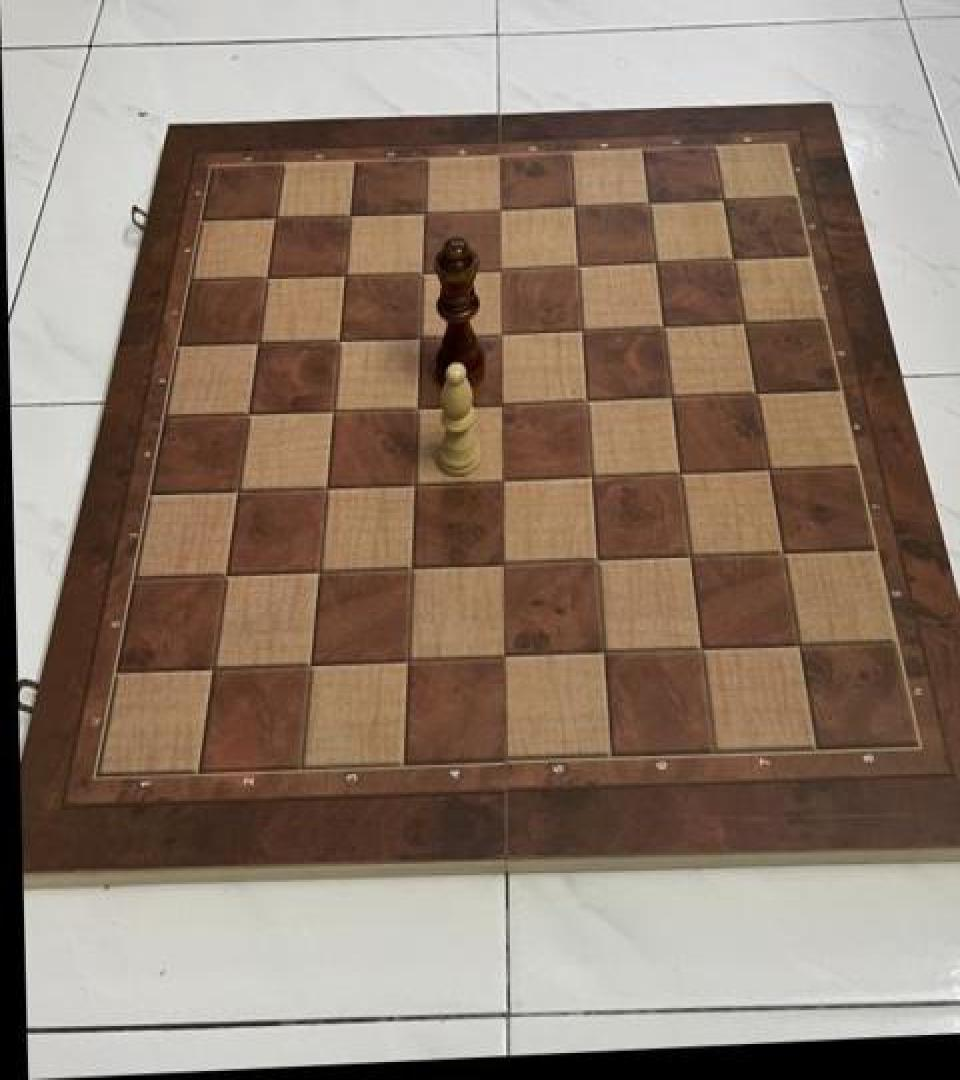xcorner: (259, 201, 293, 240), (405, 255, 439, 294), (750, 454, 784, 493), (484, 462, 518, 501), (706, 184, 740, 222), (631, 187, 665, 225), (556, 190, 590, 228), (481, 192, 515, 230), (407, 196, 441, 234), (333, 198, 367, 236), (716, 243, 750, 281), (638, 246, 672, 284), (560, 250, 594, 288), (482, 252, 516, 290), (327, 258, 361, 296), (251, 261, 285, 299), (726, 308, 760, 346), (645, 310, 679, 348), (564, 314, 598, 352), (483, 316, 517, 354), (402, 320, 436, 358), (322, 323, 356, 361), (242, 325, 276, 363), (738, 378, 772, 416), (653, 380, 687, 418), (568, 384, 602, 422), (484, 387, 518, 425), (399, 390, 433, 428), (316, 393, 350, 431), (232, 395, 266, 433), (661, 457, 695, 495), (573, 460, 607, 498), (396, 466, 430, 504), (309, 469, 343, 507), (221, 472, 255, 510), (764, 538, 798, 576), (671, 541, 705, 579), (578, 544, 612, 582), (485, 547, 519, 585), (393, 549, 427, 587), (301, 552, 335, 590), (210, 556, 244, 594), (779, 630, 813, 668), (681, 632, 715, 670), (583, 636, 617, 674), (486, 639, 520, 677), (390, 642, 424, 680), (293, 645, 327, 683), (197, 647, 231, 685)
